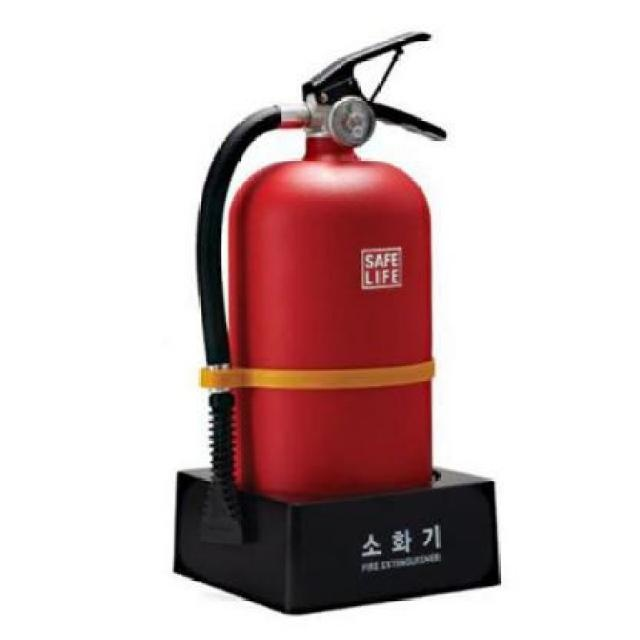fire extinguisher: (195, 30, 448, 547)
